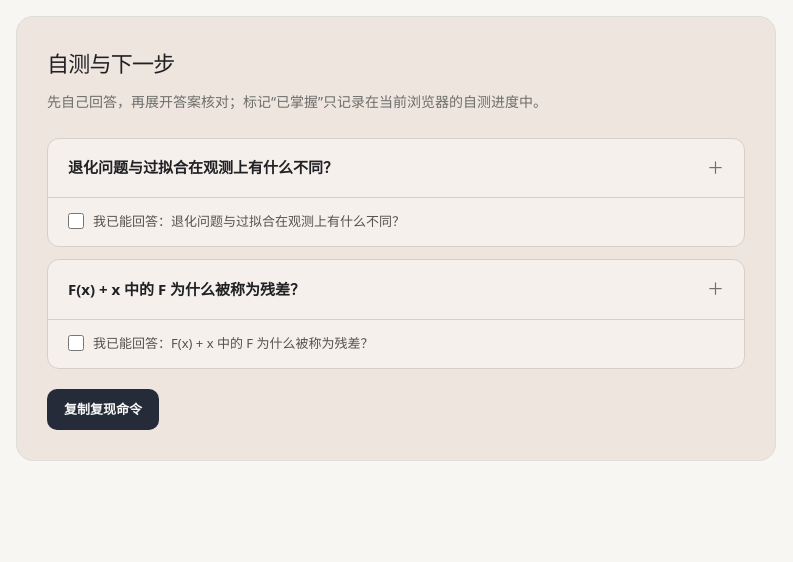
Test: PaperSelfCheck › reveals an answer only after its question-named native summary is disclosed
The width and height of the screenshot is (793, 562).
Check: the text "退化可表现为更深模型连训练误差也更高；过拟合则通常是训练集表现较好而验证表现变差。两者仍需结合具体实验判断。" is not shown
Click the heading "退化问题与过拟合在观测上有什么不同？". click: (203, 167)
box: left=68, top=157, right=338, bottom=177
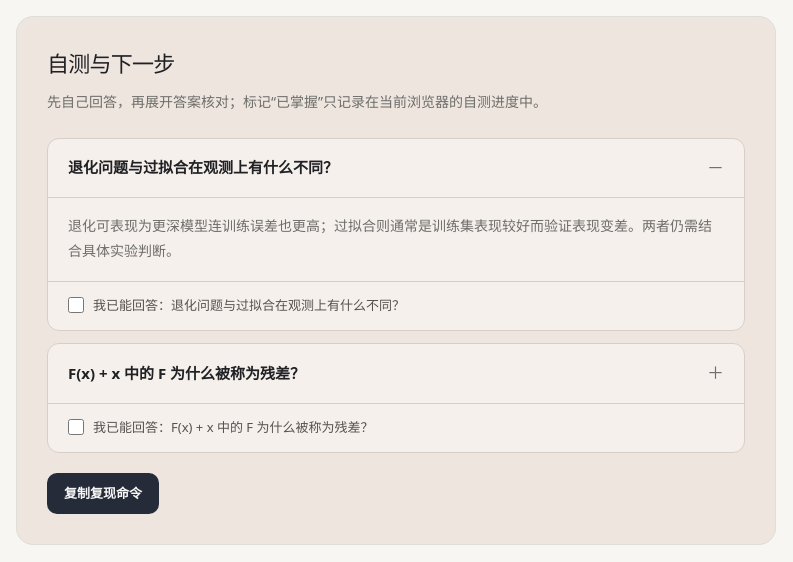
Check: the text "退化可表现为更深模型连训练误差也更高；过拟合则通常是训练集表现较好而验证表现变差。两者仍需结合具体实验判断。" is shown, box left=48, top=197, right=744, bottom=281
